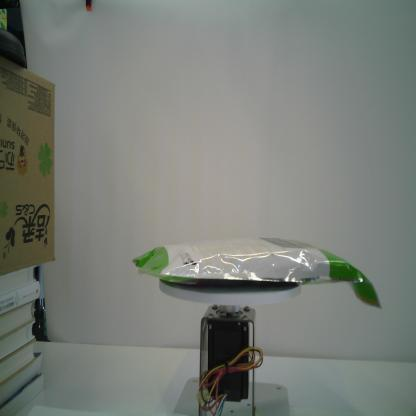Dried Food: (129, 234, 384, 312)
